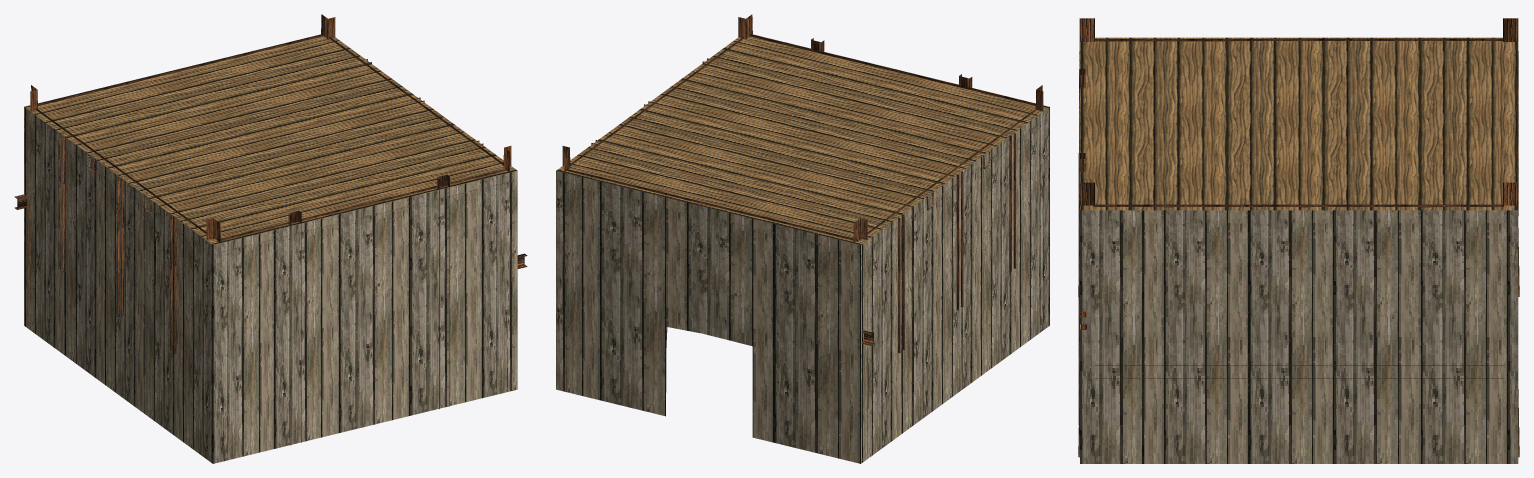
The model's file is LAKETOWN_WAREHOUSE2_PS_WH2_SIDEROOM47466__GX.fbx.
The picture shows the model from 3 angles, left to right: view 1: azimuth 30°, elevation 25°; view 2: azimuth 150°, elevation 25°; view 3: azimuth 270°, elevation 25°; orthographic projection. The views are drawn at different scales.
Parts seen in each view (by area): view 1: LAKETOWN_WAREHOUSE2_PS_WH2_SIDEROOM47466__GX; view 2: LAKETOWN_WAREHOUSE2_PS_WH2_SIDEROOM47466__GX; view 3: LAKETOWN_WAREHOUSE2_PS_WH2_SIDEROOM47466__GX.
Boxes of the visible parts, box(x1,y1,x2,y2) form: LAKETOWN_WAREHOUSE2_PS_WH2_SIDEROOM47466__GX: box(14, 14, 527, 463); LAKETOWN_WAREHOUSE2_PS_WH2_SIDEROOM47466__GX: box(556, 14, 1049, 463); LAKETOWN_WAREHOUSE2_PS_WH2_SIDEROOM47466__GX: box(1078, 18, 1519, 463).
Bounding box in the file's own units: 106772 × 75219 × 108343.
Materials: 5 (5 with a texture image).
